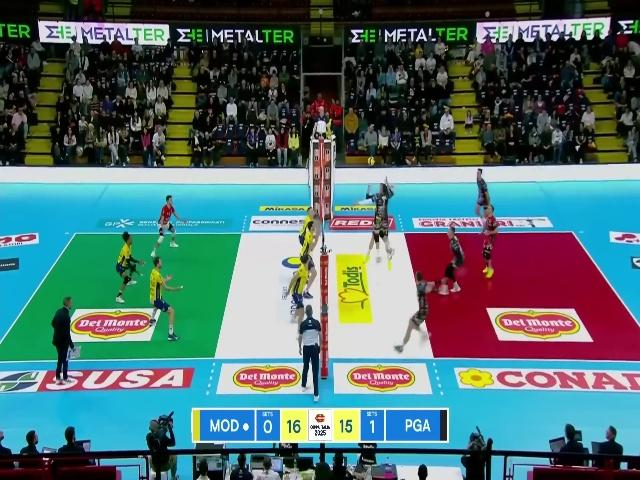volleyball court: (2, 228, 639, 359)
